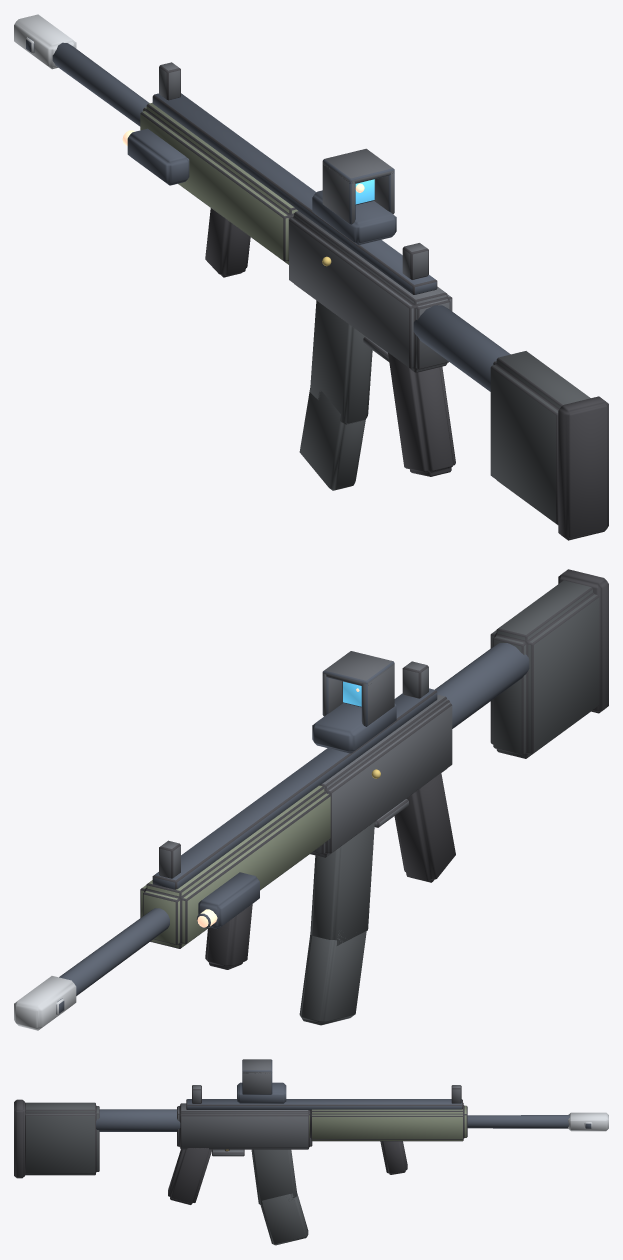
The model's file is OW_Weapon_Carbine.fbx.
3 renders of one model, top to bottom at view 1: azimuth 30°, elevation 25°; view 2: azimuth 150°, elevation 25°; view 3: azimuth 270°, elevation 25°, orthographic. The views are drawn at different scales.
Parts seen in each view (by area): view 1: Carbine_Body, Part_Mag, Part_Optic_Holo, Part_Laser, Part_MuzzleBrake; view 2: Carbine_Body, Part_Mag, Part_Optic_Holo, Part_MuzzleBrake, Part_Laser; view 3: Carbine_Body, Part_Mag, Part_Optic_Holo, Part_MuzzleBrake.
Part boxes in pixels (left/top/right/bottom): Carbine_Body: left=52, top=42, right=608, bottom=540; Part_Mag: left=299, top=300, right=372, bottom=490; Part_Optic_Holo: left=312, top=148, right=396, bottom=245; Part_Laser: left=122, top=128, right=189, bottom=185; Part_MuzzleBrake: left=14, top=14, right=76, bottom=69; Carbine_Body: left=59, top=569, right=608, bottom=995; Part_Mag: left=299, top=822, right=374, bottom=1025; Part_Optic_Holo: left=312, top=651, right=396, bottom=753; Part_MuzzleBrake: left=14, top=976, right=76, bottom=1030; Part_Laser: left=196, top=872, right=259, bottom=929; Carbine_Body: left=14, top=1085, right=569, bottom=1204; Part_Mag: left=251, top=1149, right=308, bottom=1245; Part_Optic_Holo: left=237, top=1059, right=286, bottom=1103; Part_MuzzleBrake: left=568, top=1112, right=608, bottom=1131.
Size of the model in its own units: 6.9 by 31.31 by 94.65.
